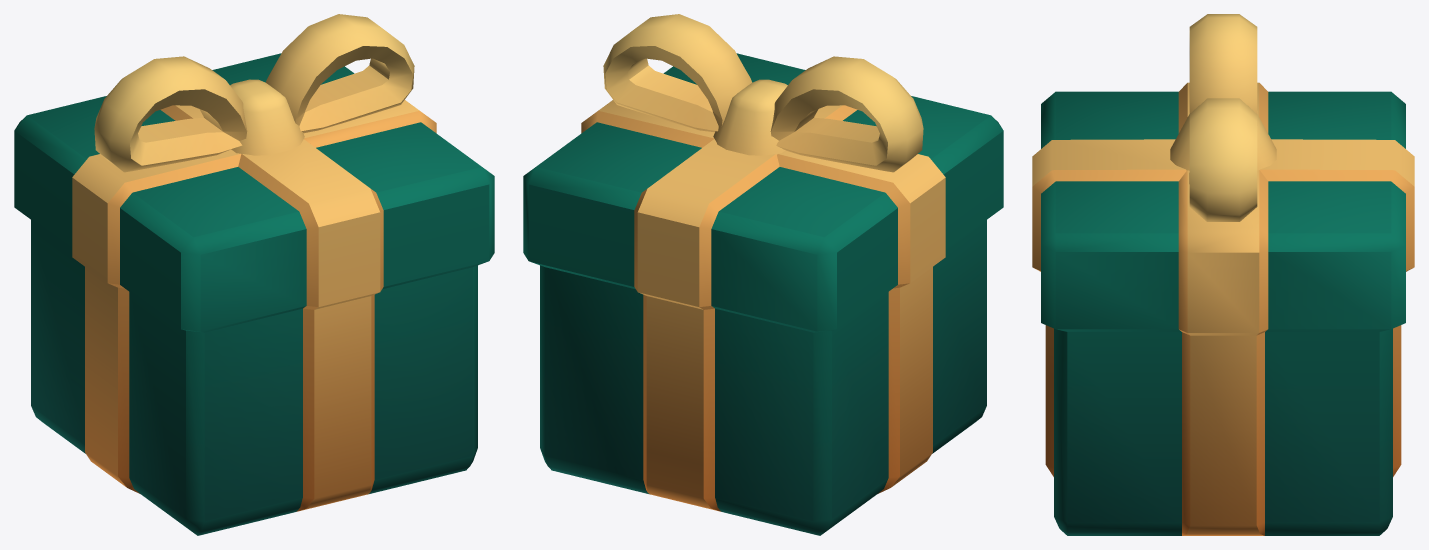
Rendered from Present_A.gltf.
3 renders of one model, left to right at view 1: azimuth 30°, elevation 25°; view 2: azimuth 150°, elevation 25°; view 3: azimuth 270°, elevation 25°, orthographic.
Visible parts, largest first — view 1: Present_A; view 2: Present_A; view 3: Present_A.
Part boxes in pixels (box(x1,y1,x2,y2)): Present_A: box(14, 14, 494, 535); Present_A: box(523, 14, 1003, 535); Present_A: box(1032, 14, 1414, 535).
Size of the model in its own units: 0.5638 by 0.6617 by 0.5638.
1 material, 1 textured.
